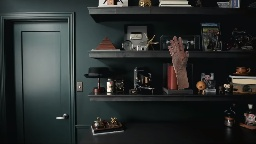Mano_aperta: (166, 34, 191, 71)
